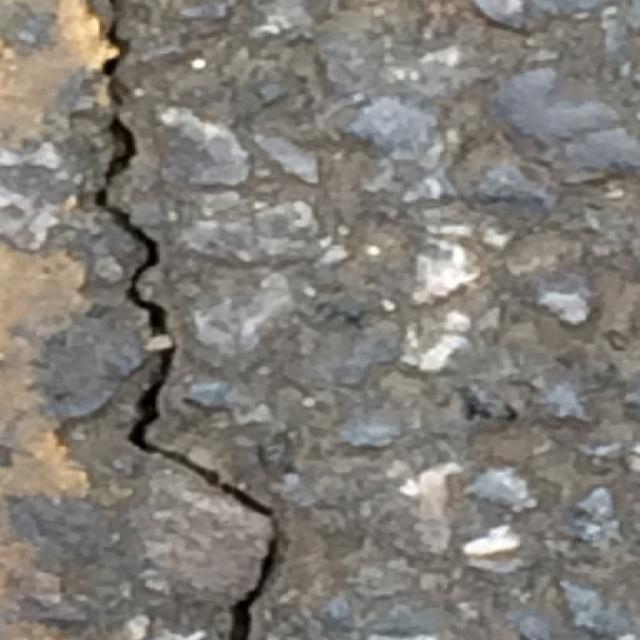Longitudinal: (85, 1, 288, 638)
